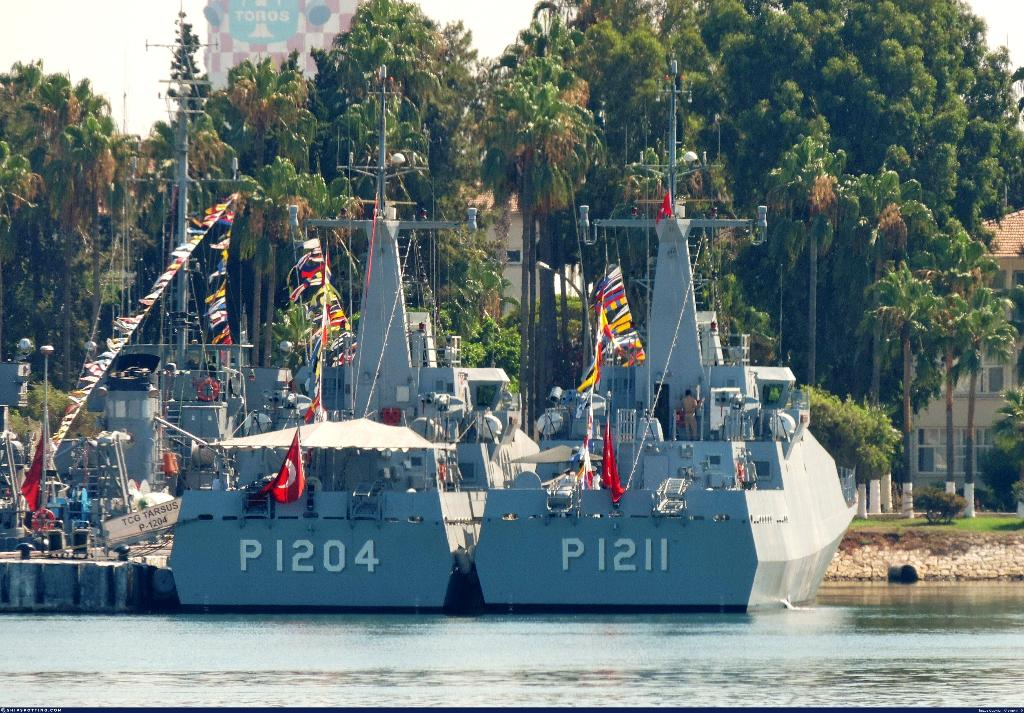Warship: (466, 63, 862, 628), (176, 50, 476, 620)
